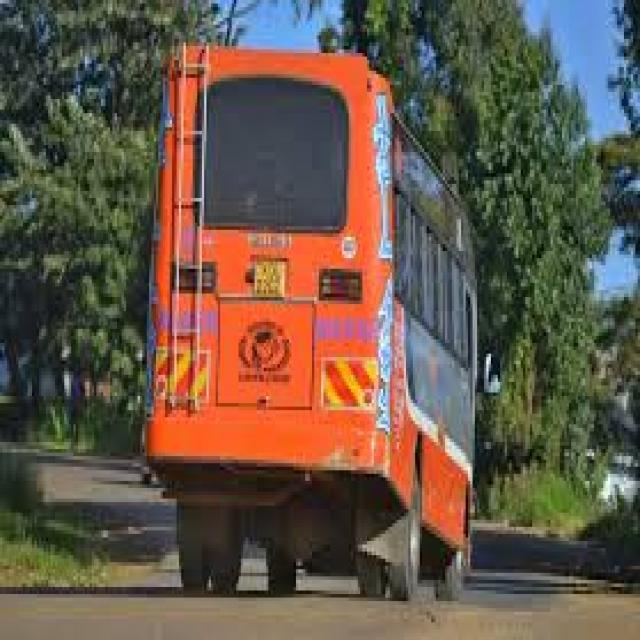bus: (141, 17, 505, 633)
